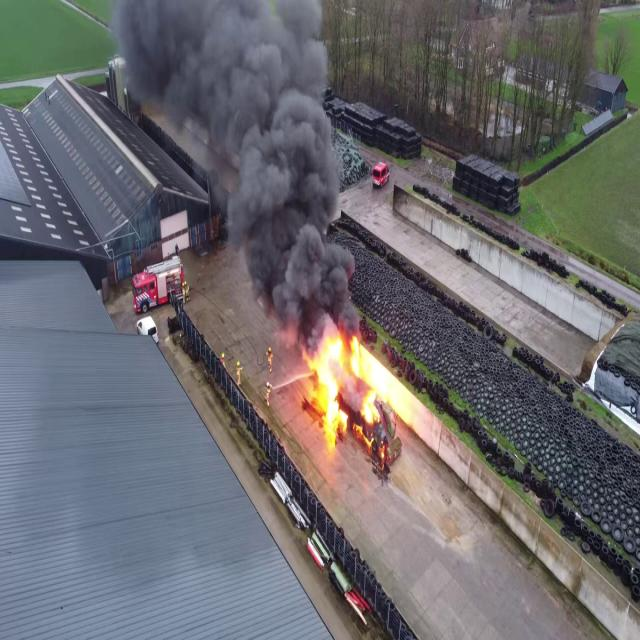fire: (302, 324, 394, 440)
smoke: (126, 0, 358, 315)
